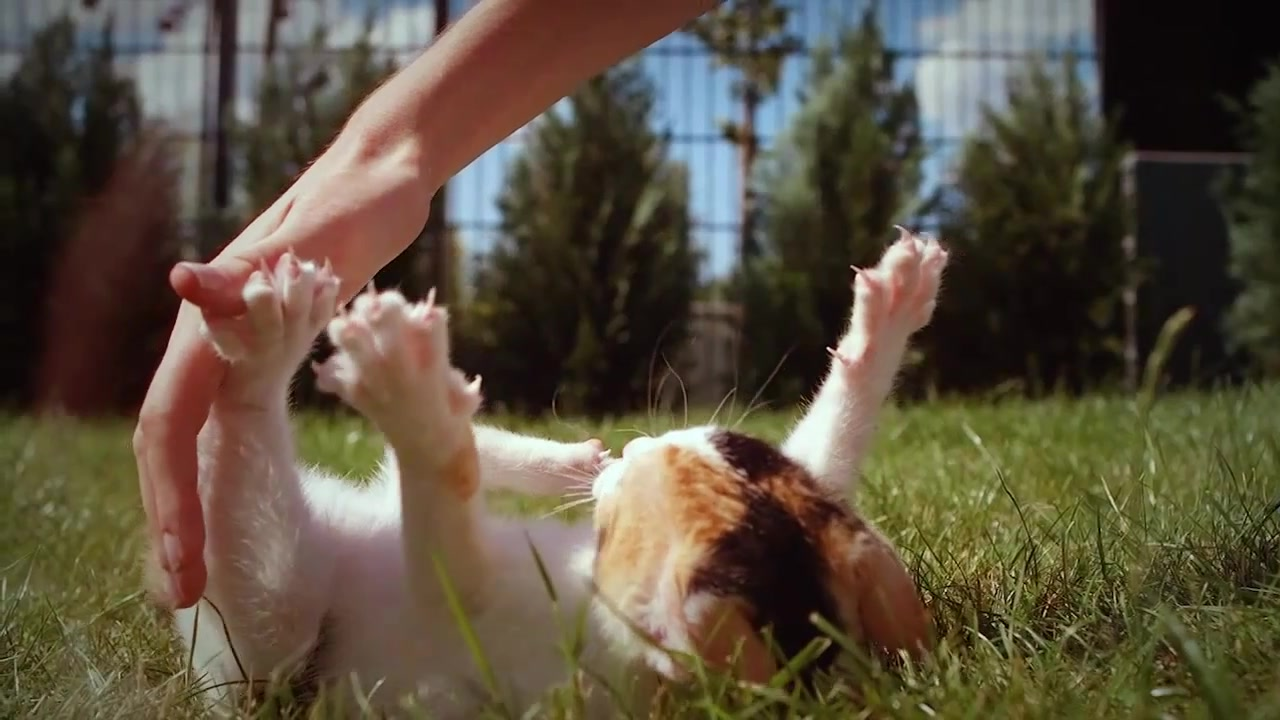cat: (164, 223, 971, 720)
